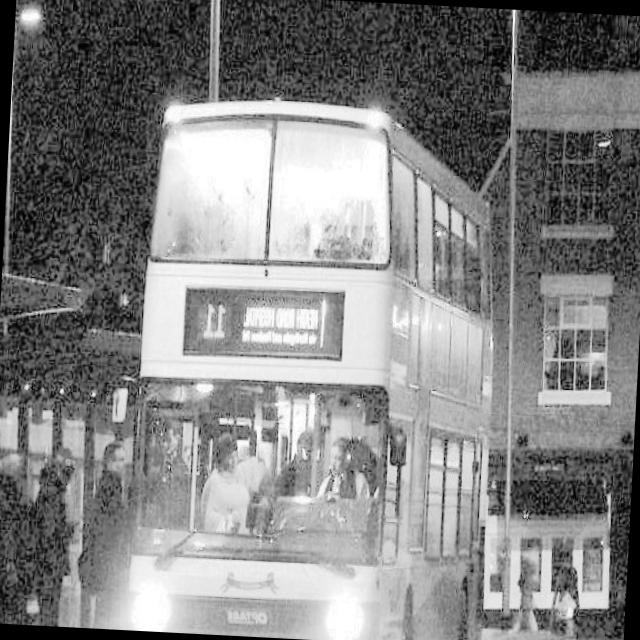Bus: (107, 83, 518, 640)
Person: (12, 436, 82, 628), (73, 430, 131, 630), (0, 409, 25, 624)
